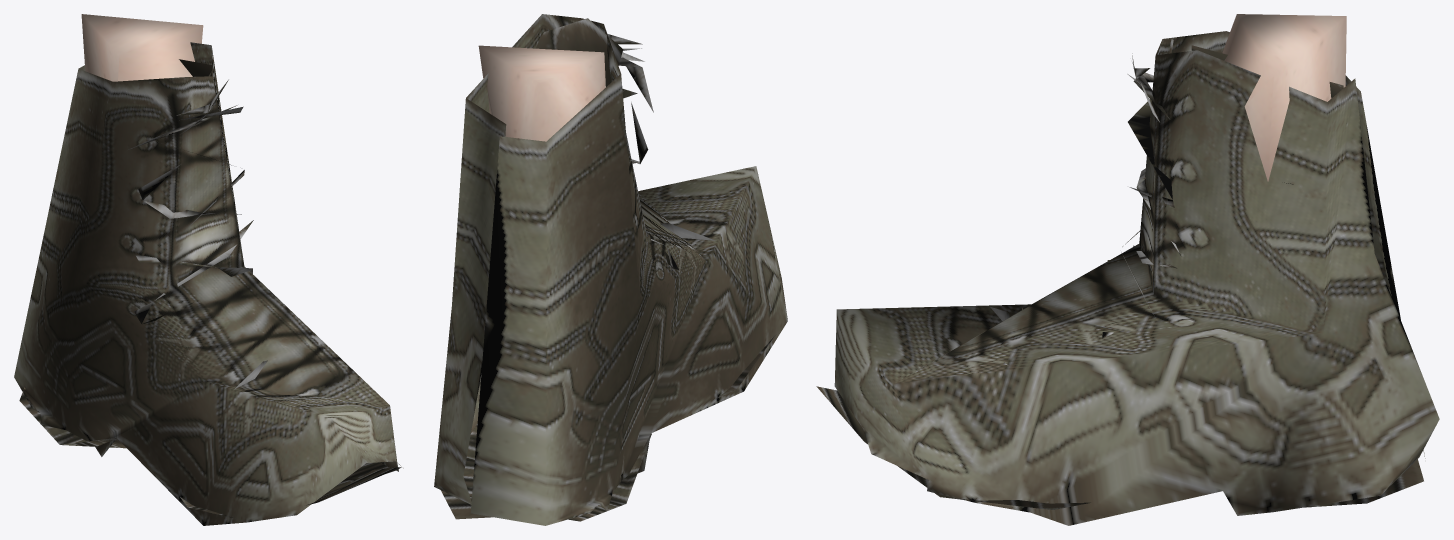
The model's file is gib_foot.gltf.
The picture shows the model from 3 angles, left to right: view 1: azimuth 30°, elevation 25°; view 2: azimuth 150°, elevation 25°; view 3: azimuth 270°, elevation 25°; orthographic projection. The views are drawn at different scales.
Parts seen in each view (by area): view 1: Object_16; view 2: Object_16; view 3: Object_16.
Boxes of the visible parts, <box> form: Object_16: <box>14,14,403,525</box>; Object_16: <box>434,14,787,525</box>; Object_16: <box>816,14,1439,525</box>.
Bounding box in the file's own units: 0.1416 × 0.2875 × 0.3595.
Materials: 2 (2 with a texture image).
